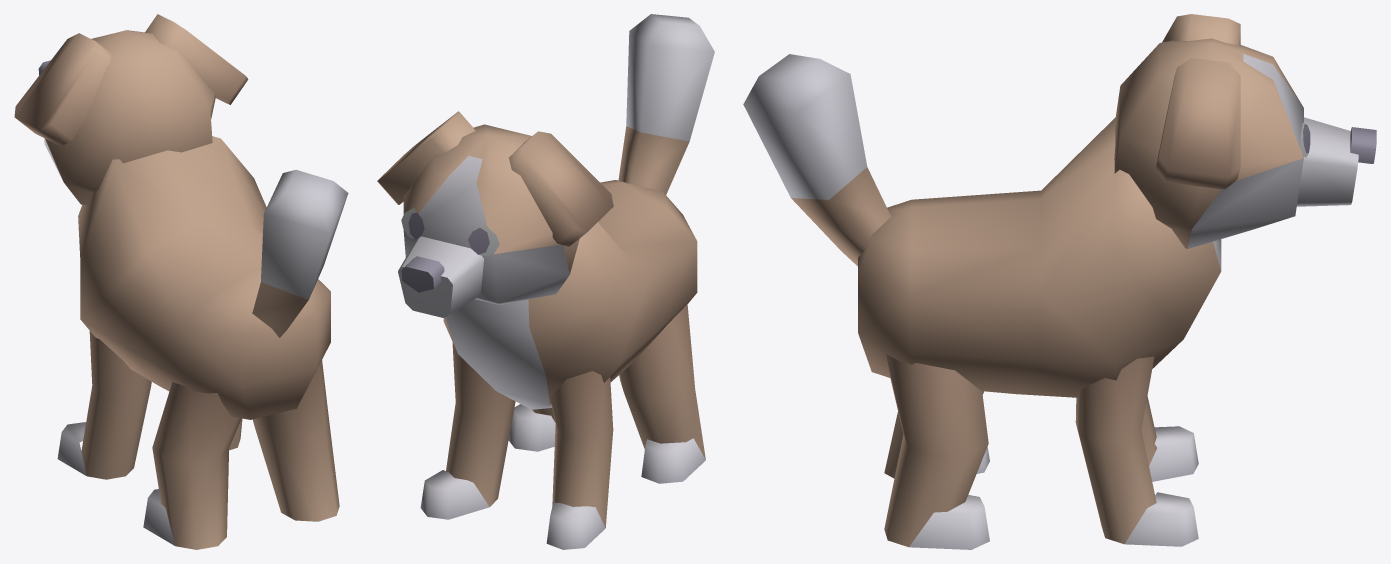
The model's file is dog-large-standing.glb.
3 views of the same model, side by side, from view 1: azimuth 30°, elevation 25°; view 2: azimuth 150°, elevation 25°; view 3: azimuth 270°, elevation 25° (orthographic). The views are drawn at different scales.
Parts seen in each view (by area): view 1: dog-large-standing; view 2: dog-large-standing; view 3: dog-large-standing.
Part boxes in pixels (<box>): dog-large-standing: <box>14,14,348,549</box>; dog-large-standing: <box>377,14,714,549</box>; dog-large-standing: <box>743,14,1376,549</box>.
Bounding box in the file's own units: 0.2203 × 0.41 × 0.5059.
